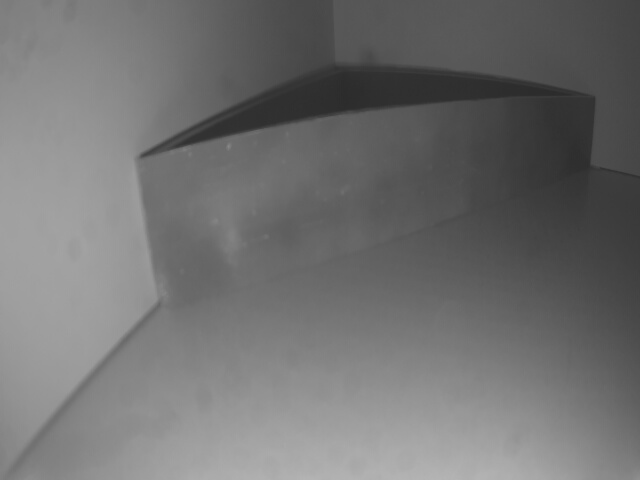Green: (139, 88, 594, 319)
